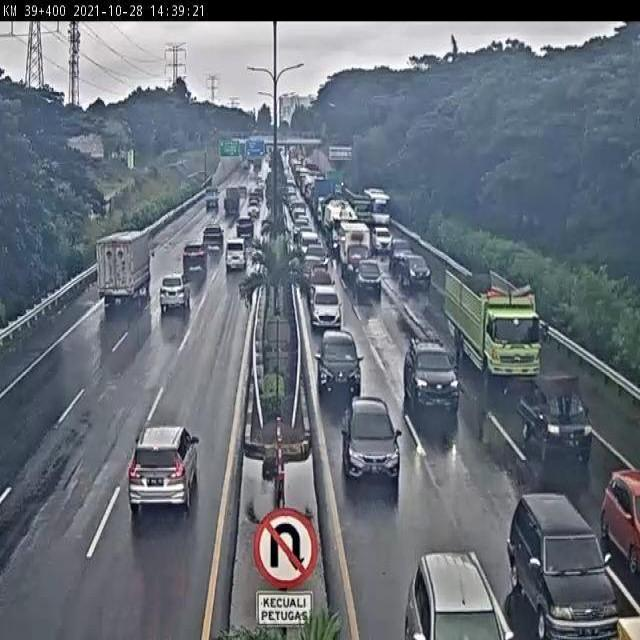car: (508, 491, 619, 636), (128, 426, 195, 514), (339, 392, 397, 475), (401, 332, 456, 405), (315, 328, 361, 392), (159, 270, 194, 310), (311, 281, 340, 327), (391, 254, 430, 286), (355, 257, 380, 288), (225, 238, 247, 270), (182, 244, 206, 271), (386, 235, 411, 260), (203, 224, 225, 252), (303, 253, 324, 280), (232, 220, 253, 245), (307, 264, 331, 285), (305, 244, 328, 265)
mid truck: (443, 266, 538, 382), (98, 230, 151, 302)
small truck: (517, 378, 592, 458), (340, 224, 370, 271)
